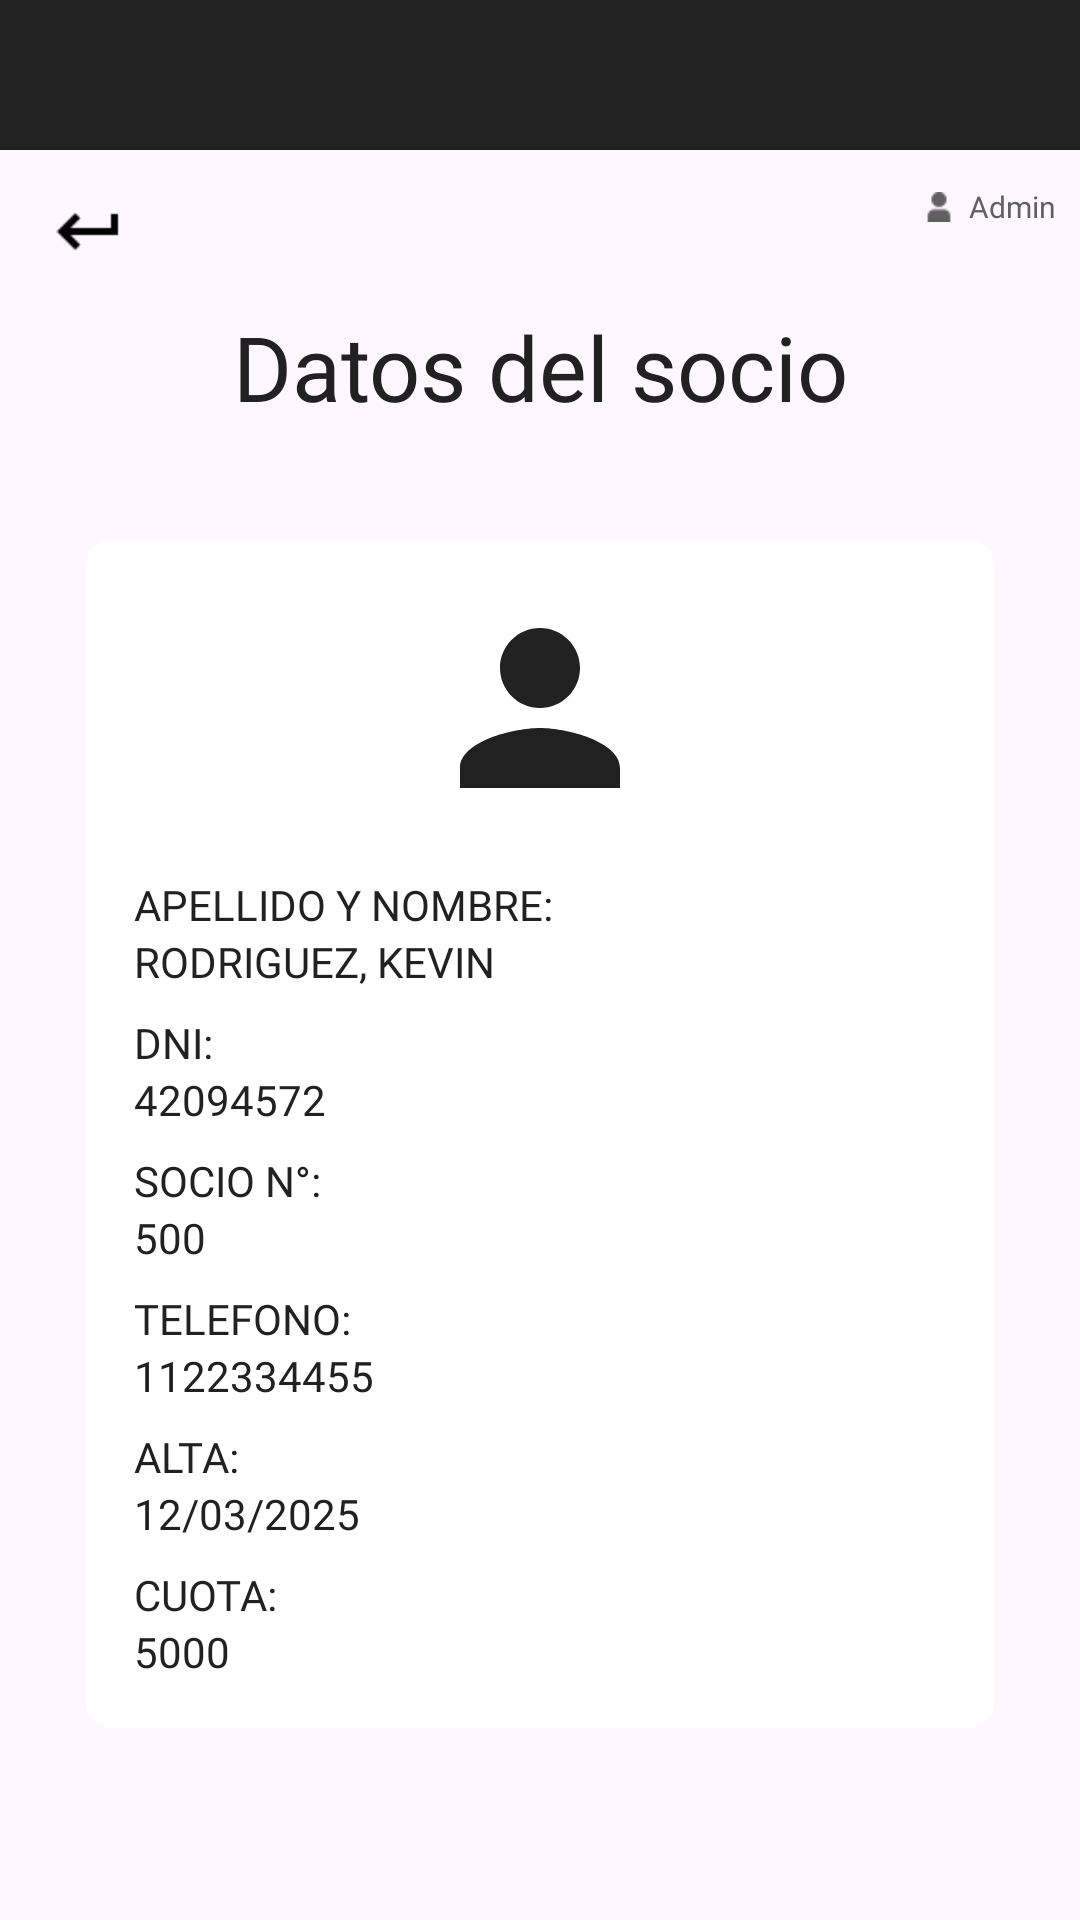

Icons on this 1080 x 1920 Android screen, each with its box as [x1,y1,x2,y2]:
volver: [56,213,119,250]
